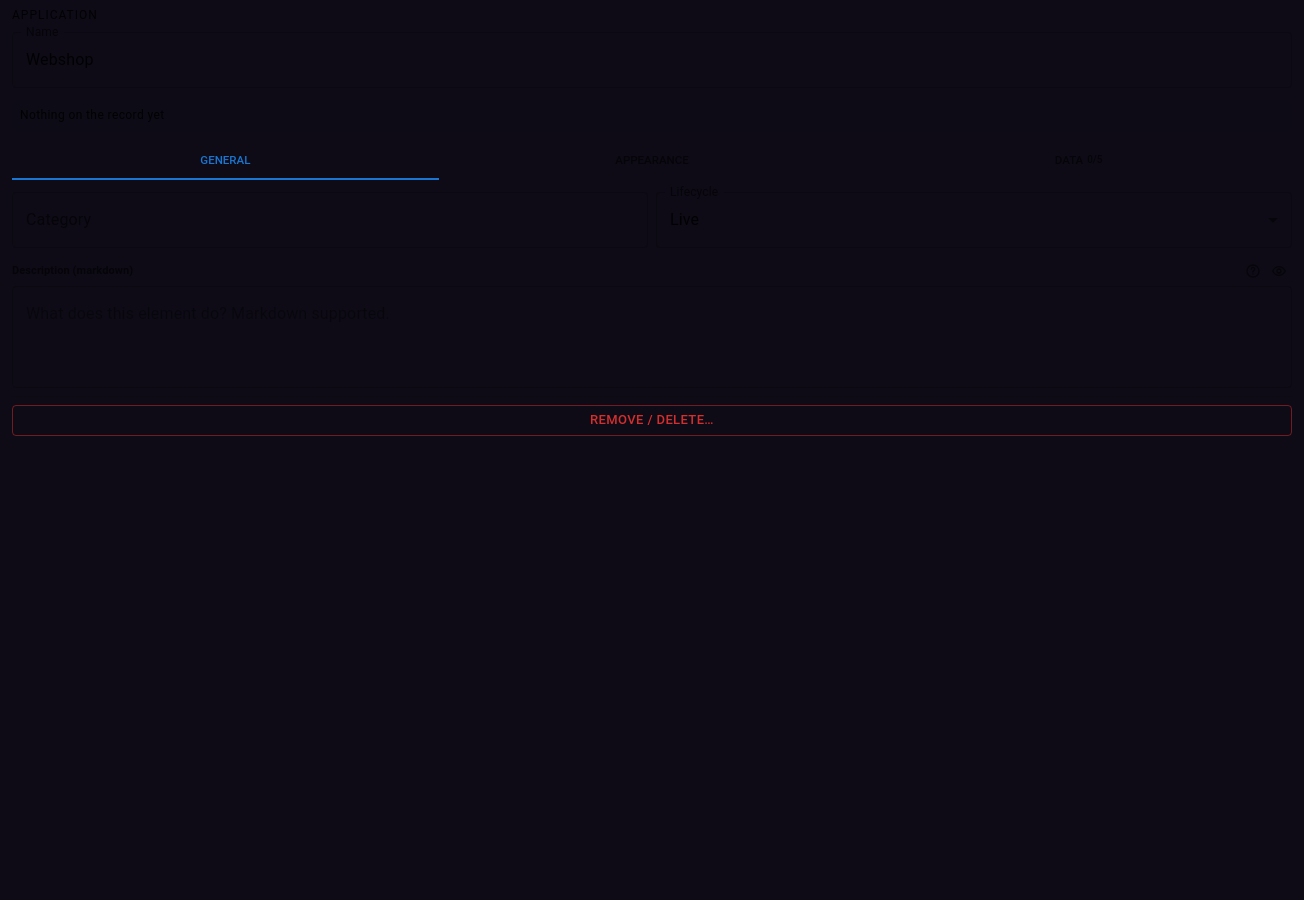
Scenario: ElementInspector — tab structure (U7a) › Appearance reaches Accent colour, Shape, the icon grid and its size
Click the tab "Appearance" at (652, 160), box [439,140,865,180]
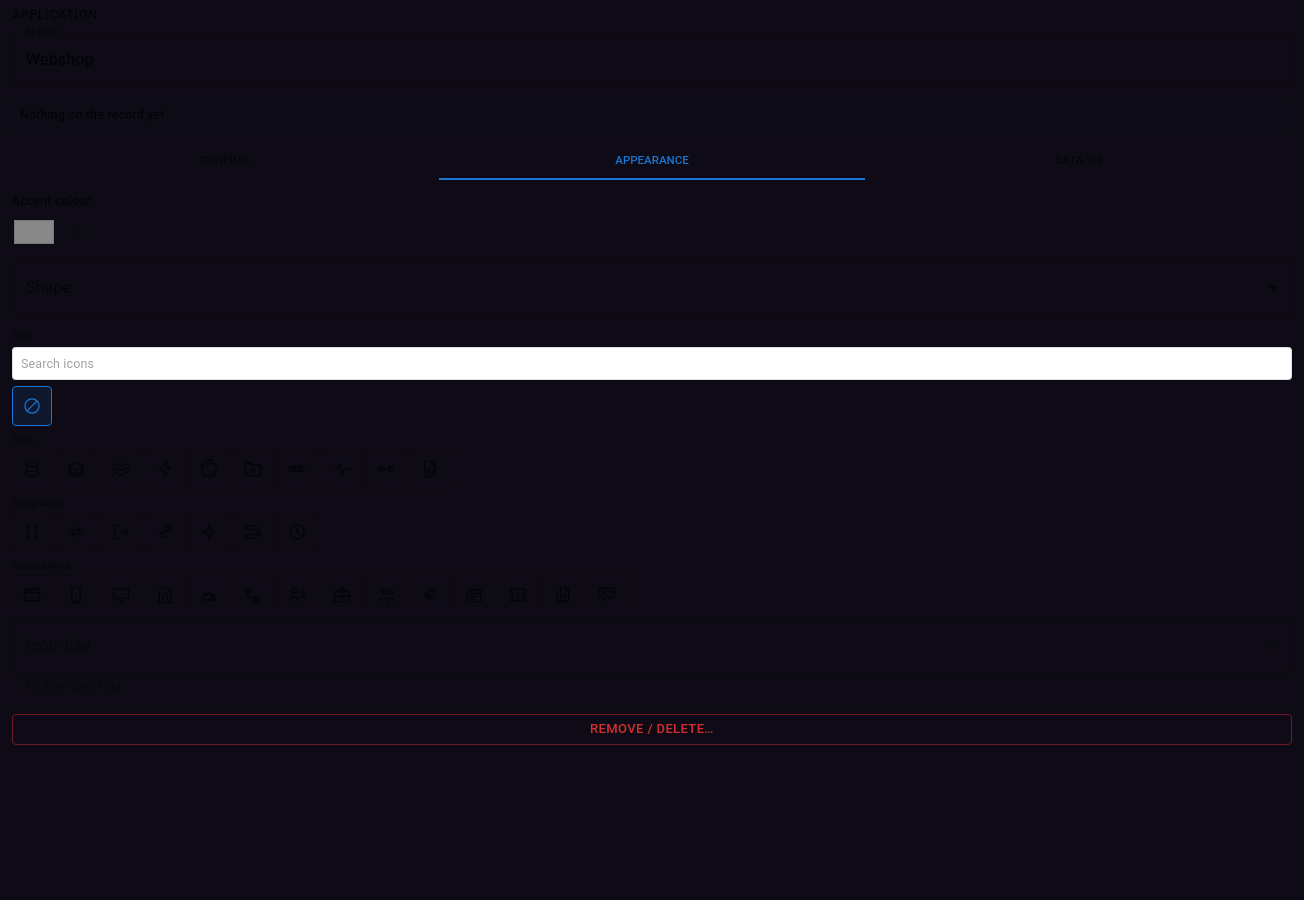
Result: the colour field named "Accent colour" is shown at [12,216,56,248]
Result: the element named "Icon" is shown at [12,348,1292,606]
